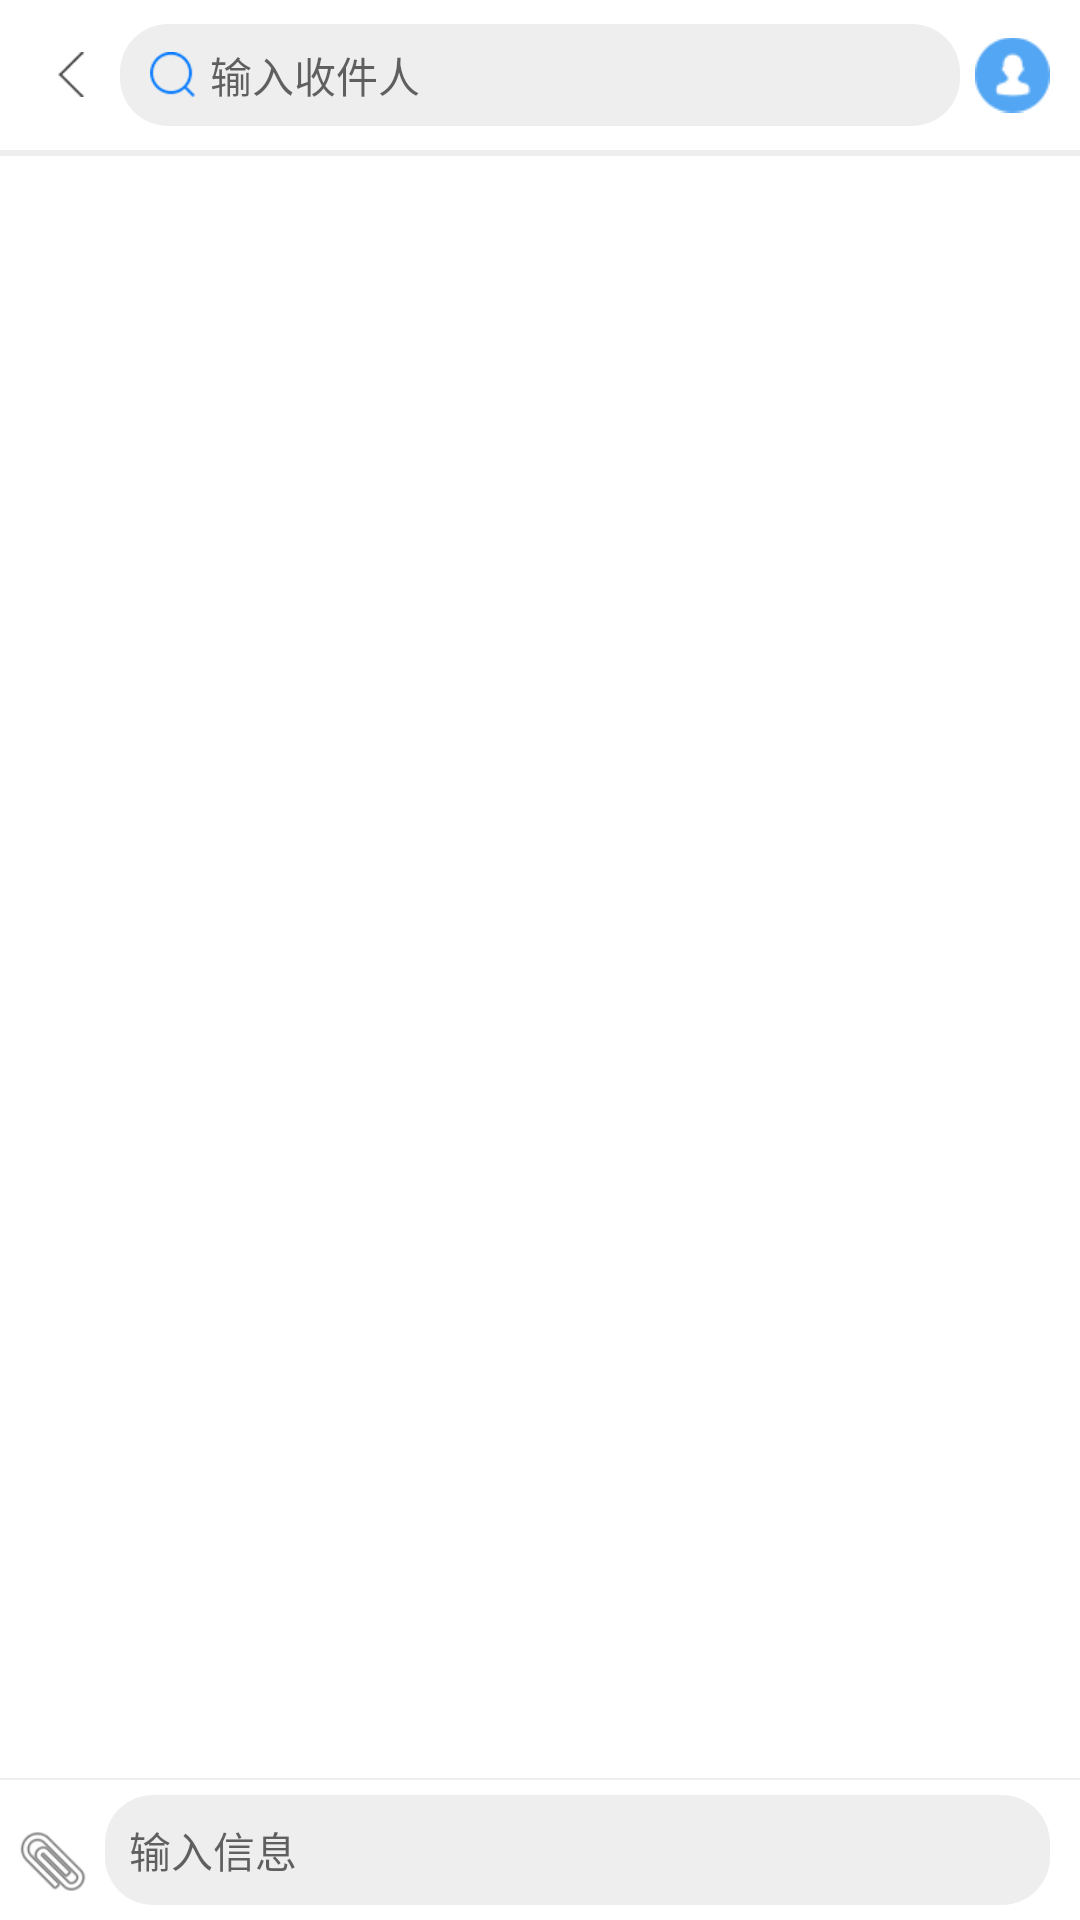

Icon bounding boxes for this 1080w x 1920h phone screenshot, format detection(x1, y1, x2, y2):
attachment: detection(21, 1832, 85, 1891)
back: detection(58, 52, 84, 97)
contacts: detection(975, 38, 1050, 113)
search: detection(150, 52, 195, 97)
